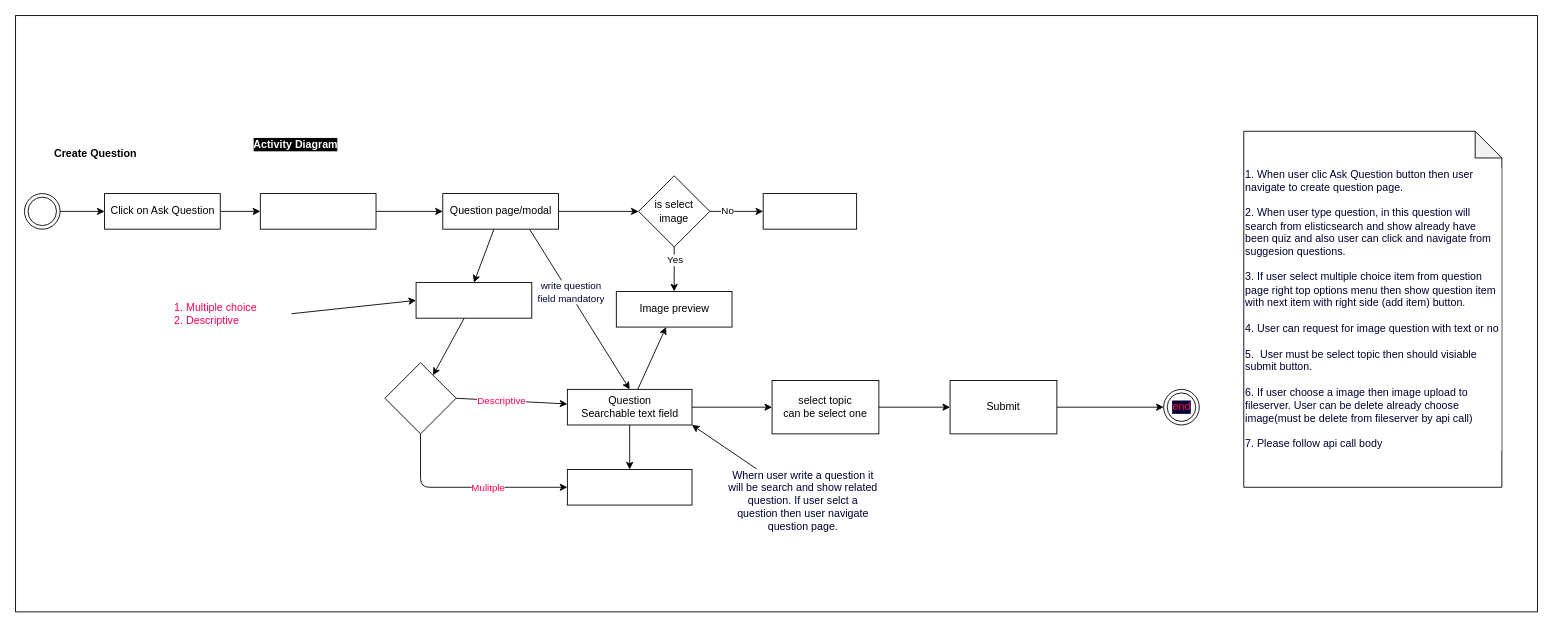
Some shapes in this 1553 by 627 pixel diagram are drawn without their labels. The centre of each missing label's shape, as x and y in pixels:
is choise?: point 420,398
No image Preview: point 809,211
selct options: point 473,300
show add item: point 629,487
Show Question page/modal: point 317,211
